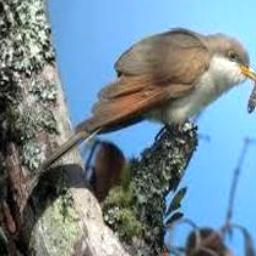Cuckoo: (38, 28, 256, 175)
